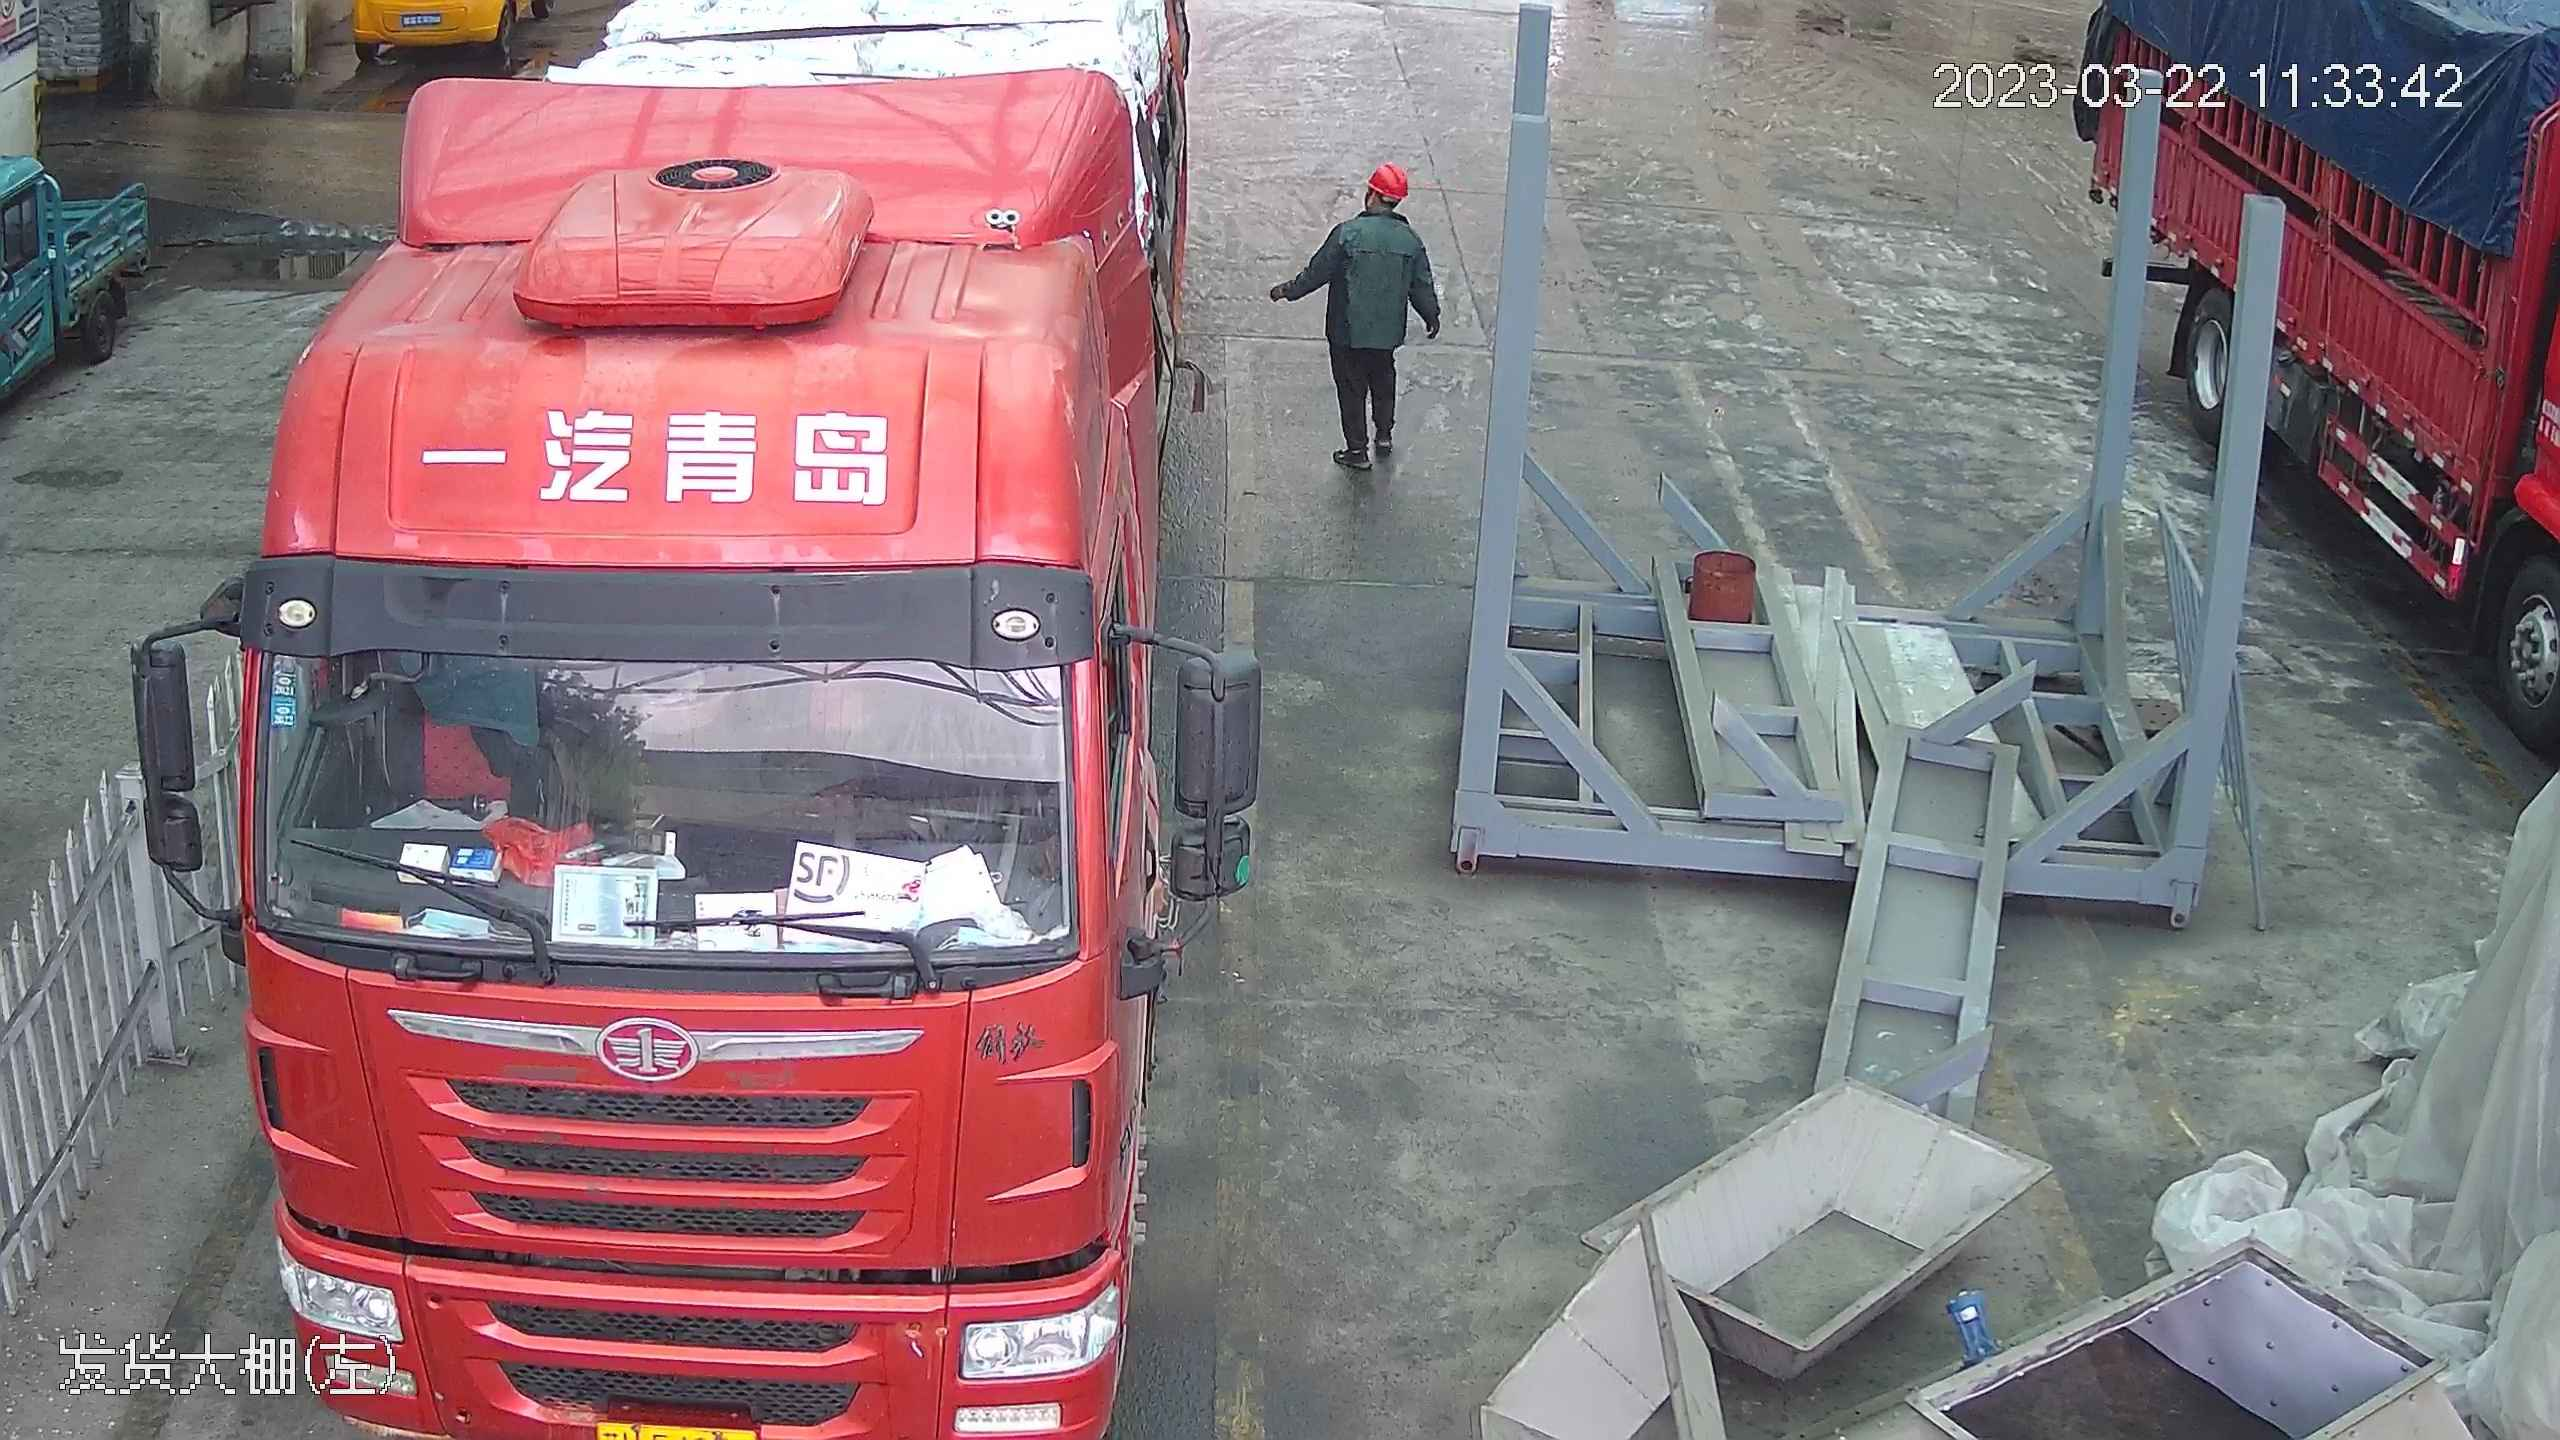head: (1325, 160, 1429, 252)
helmet: (1366, 160, 1412, 198)
people: (1271, 158, 1445, 477)
truck: (178, 12, 1270, 1437), (2077, 0, 2558, 774)
